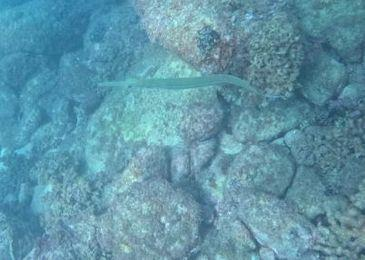Fistularia commersonii: (68, 60, 281, 101)
